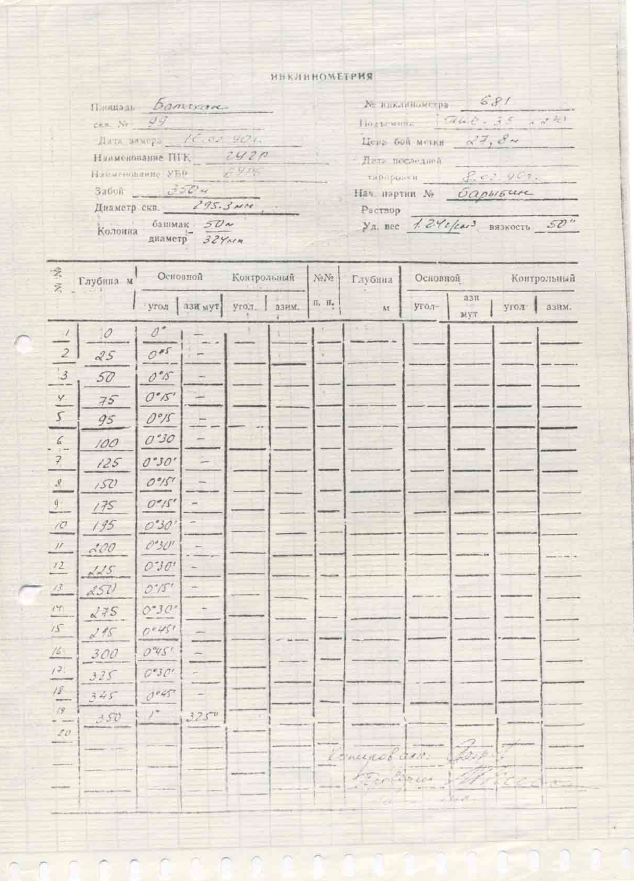Borderless: (37, 260, 621, 803)
